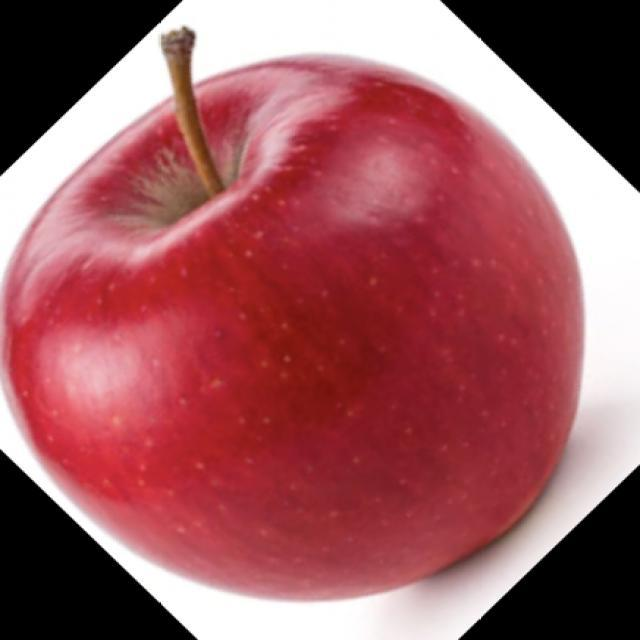Fresh Apple: (7, 55, 580, 610)
